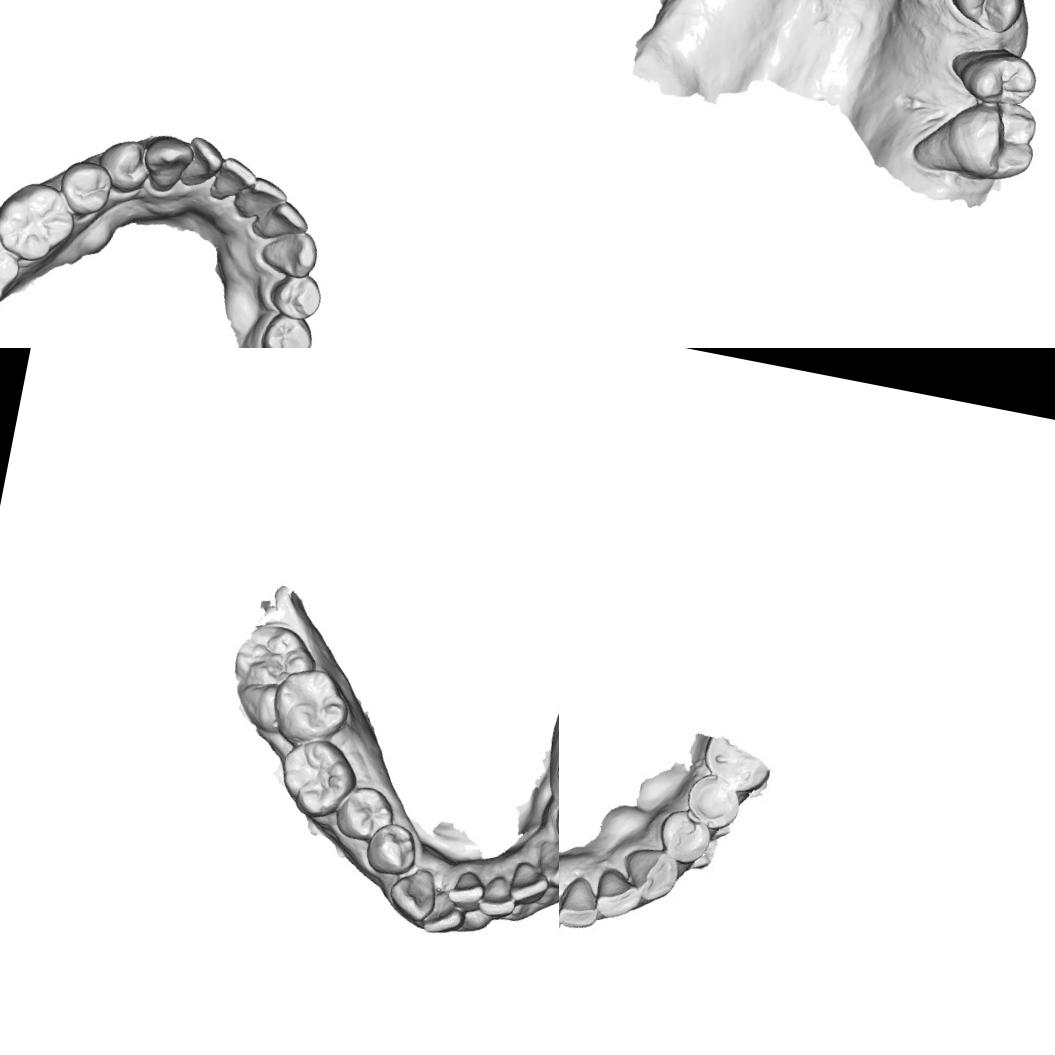canine: (618, 840, 682, 904), (137, 130, 196, 197), (257, 223, 322, 281), (384, 863, 440, 924), (531, 836, 559, 893)
incisor: (248, 193, 312, 246), (231, 171, 290, 224), (591, 868, 645, 925), (206, 154, 260, 207), (178, 134, 226, 190), (420, 886, 470, 939), (559, 874, 603, 932), (506, 858, 552, 908), (475, 872, 520, 920), (444, 866, 487, 912), (559, 879, 571, 941)
molar: (938, 90, 1044, 188), (273, 731, 363, 824), (265, 662, 355, 754), (0, 175, 81, 268), (229, 618, 322, 696), (0, 226, 24, 316)
premolar: (953, 42, 1042, 114), (677, 767, 746, 834), (331, 780, 398, 846), (652, 805, 717, 869), (92, 133, 156, 196), (54, 156, 114, 220), (362, 818, 420, 879), (266, 268, 324, 323), (943, 0, 1029, 37), (257, 310, 316, 348)
